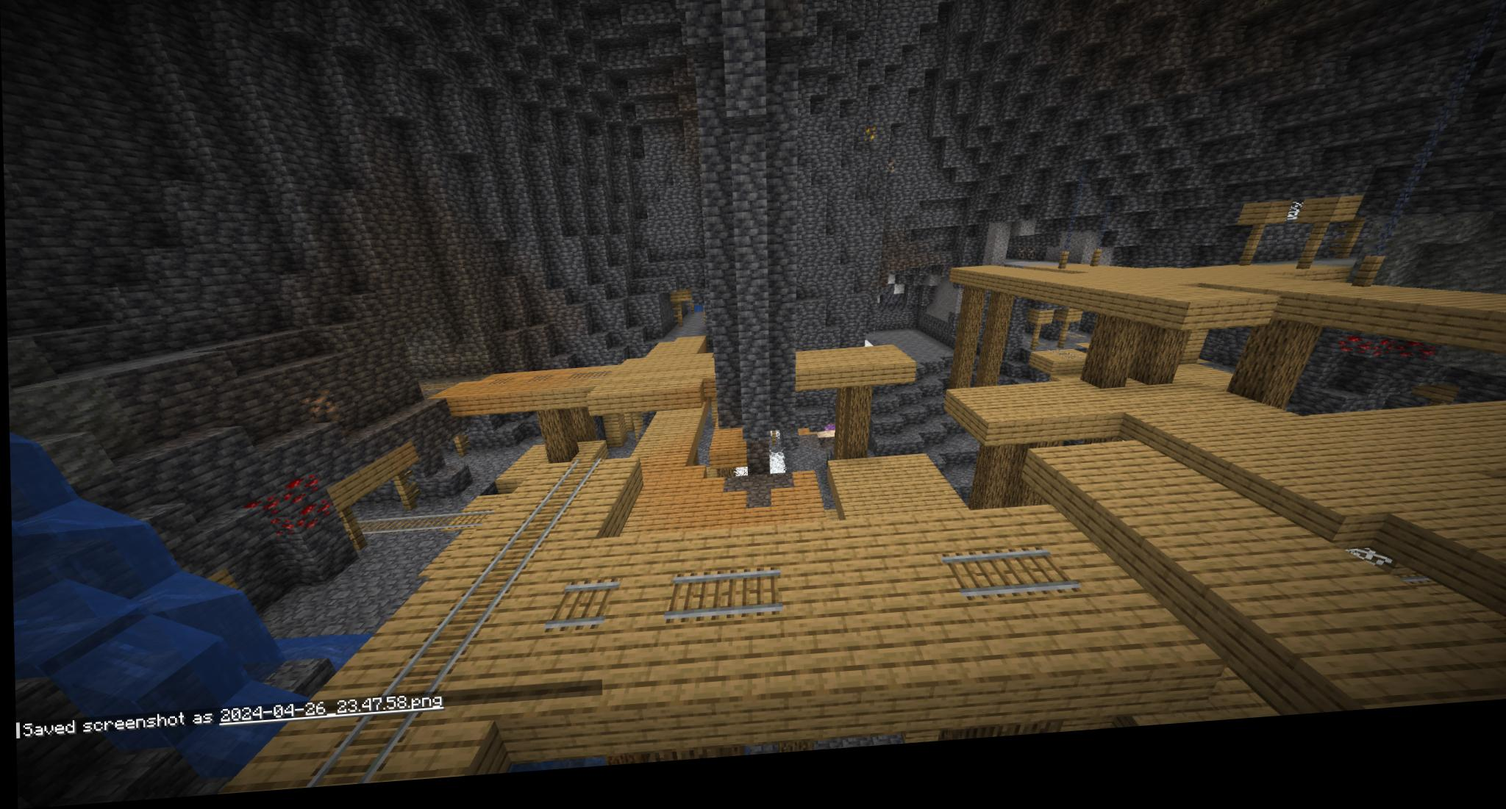iron ore: (300, 395, 338, 430)
redstone ore: (245, 474, 329, 542), (1341, 344, 1433, 396)
